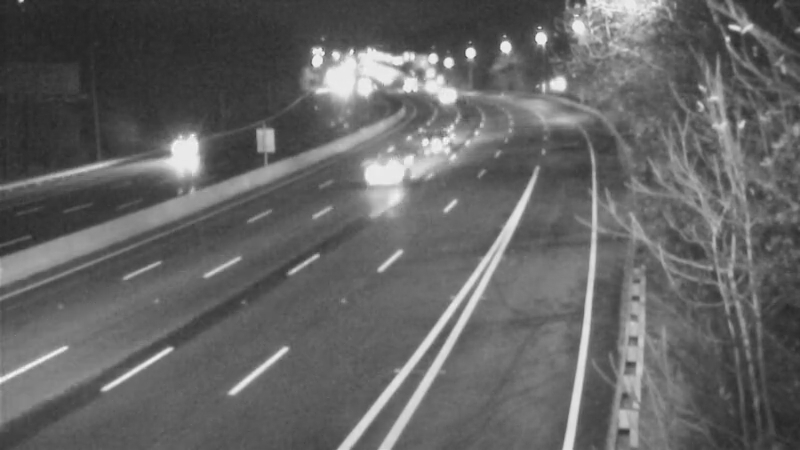vehicle: (346, 133, 426, 213), (165, 116, 245, 196), (385, 56, 435, 106), (417, 75, 467, 125), (412, 106, 462, 156)
